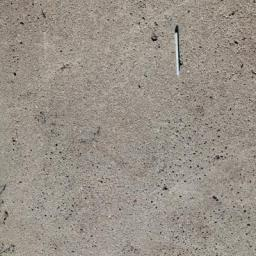FOD: (166, 21, 189, 86)
